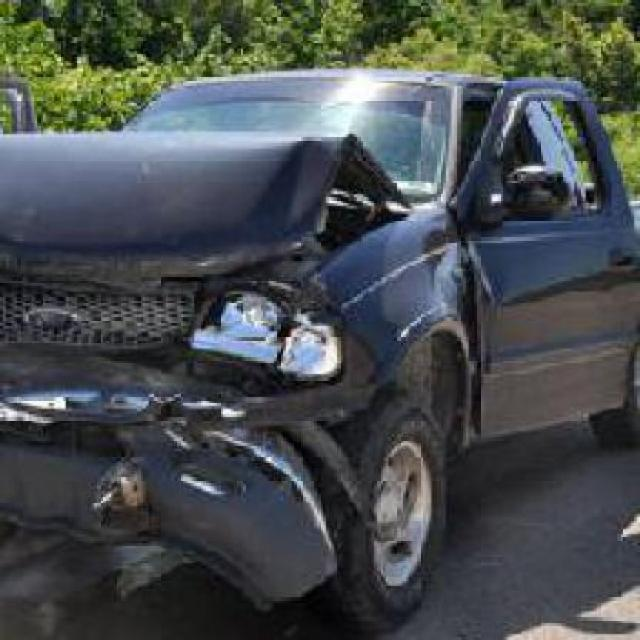damaged-door: (0, 124, 392, 283)
damaged-front-bumper: (5, 398, 347, 592)
damaged-head-light: (191, 282, 347, 376)
